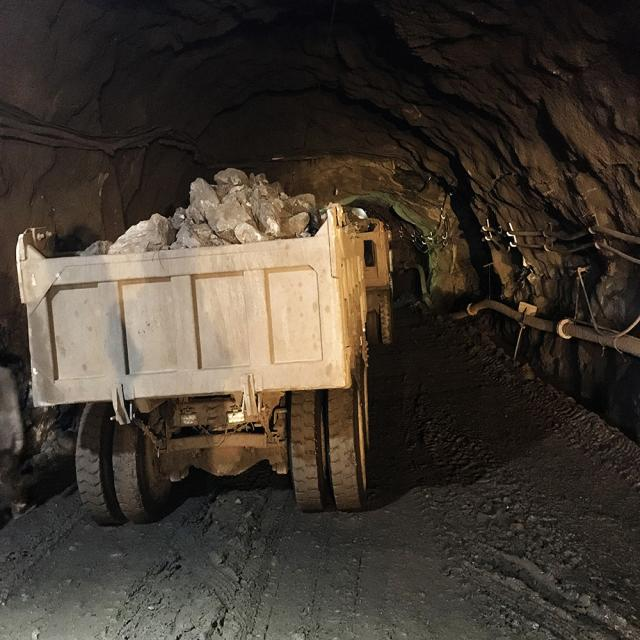dump_truck: (15, 104, 428, 520)
